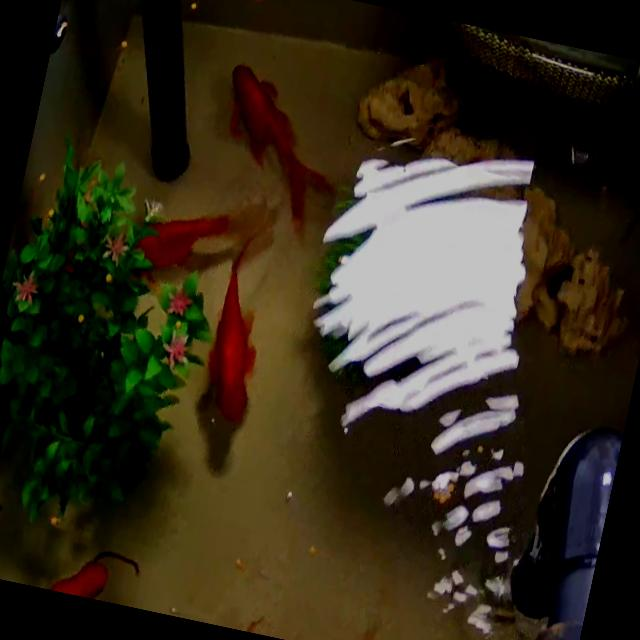fish: (202, 65, 360, 243), (195, 230, 285, 427), (126, 190, 248, 285), (0, 513, 124, 602), (338, 609, 403, 640)
